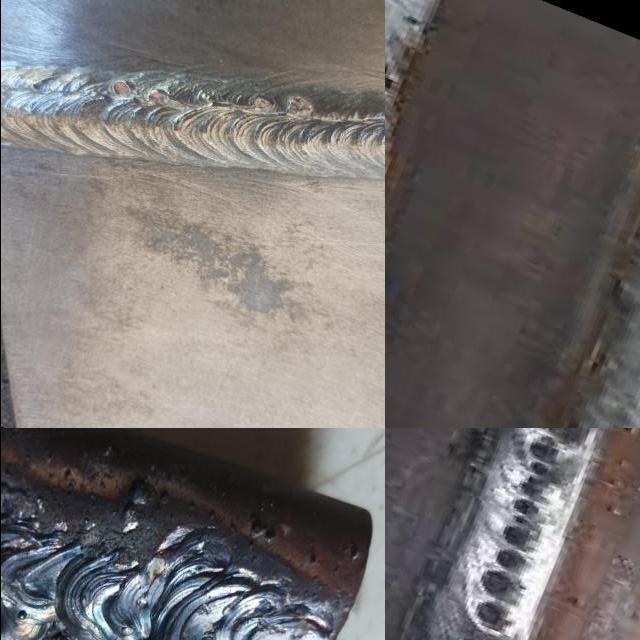defect: (468, 428, 565, 640), (285, 93, 313, 114), (110, 77, 133, 98), (402, 13, 430, 30), (250, 94, 278, 111), (384, 62, 400, 91), (198, 89, 221, 104), (145, 87, 165, 103), (200, 630, 218, 640), (342, 109, 351, 116)
